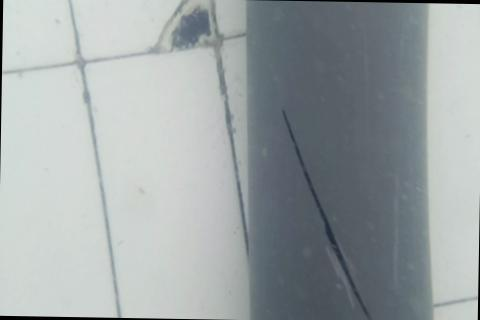keretakan: (277, 106, 381, 320)
